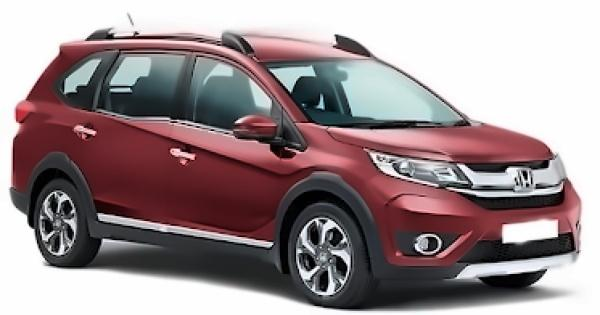Car hood: (319, 120, 560, 166)
Driver-s door - -F-R-: (156, 33, 292, 268)
Fender - -F-R-: (270, 119, 375, 250)
Fender - -R-R-: (11, 31, 92, 175)
Front bumper: (356, 170, 584, 285)
Headlight - -R-: (364, 146, 475, 193)
Passenger-s door - -R-R-: (64, 32, 191, 266)
Rear bumper: (4, 186, 40, 232)
Rear light - -R-: (14, 97, 37, 126)
Side bumper - -R-: (83, 206, 289, 274)
Side mirror - -R-: (234, 114, 290, 151)
